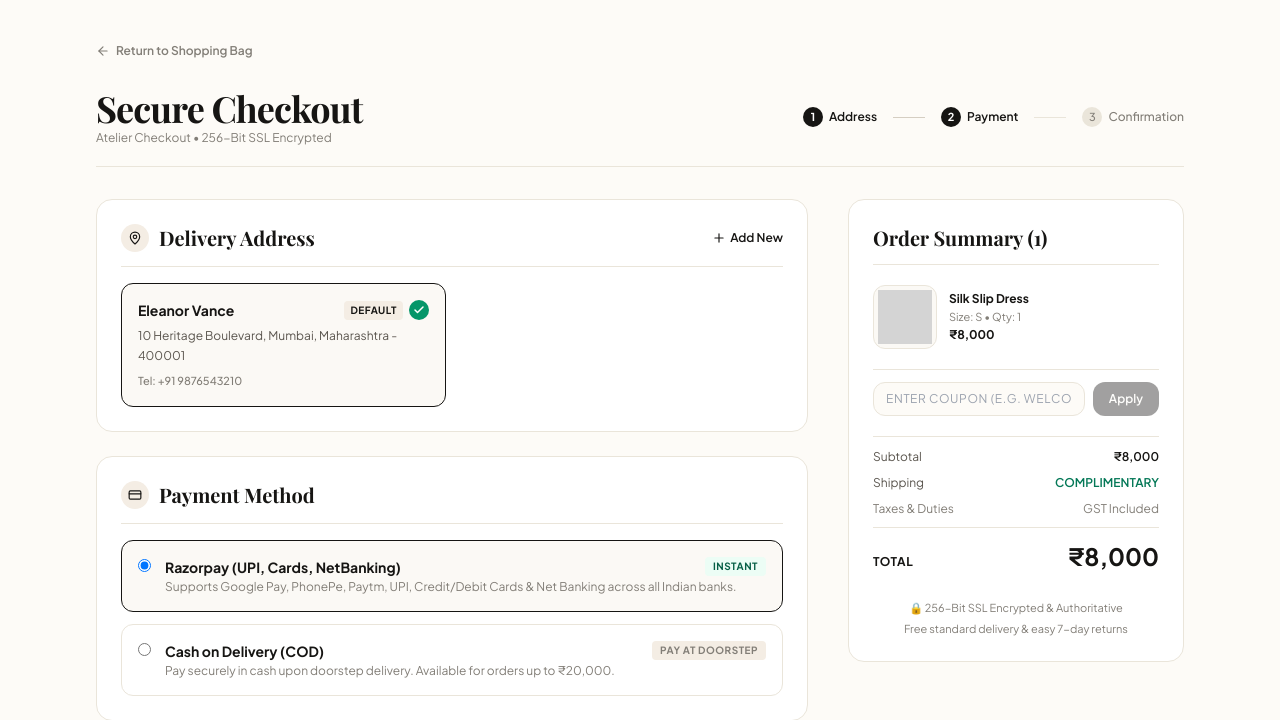
it: Frontend Checkout Experience (/checkout) › should switch between Razorpay and Cash on Delivery payment methods
Expected: the radio button with aria-label "Razorpay Secure Payment" is shown, [138, 558, 151, 572]
Click the radio button labelled "Cash on Delivery". click: (144, 649)
box: [138, 642, 151, 656]
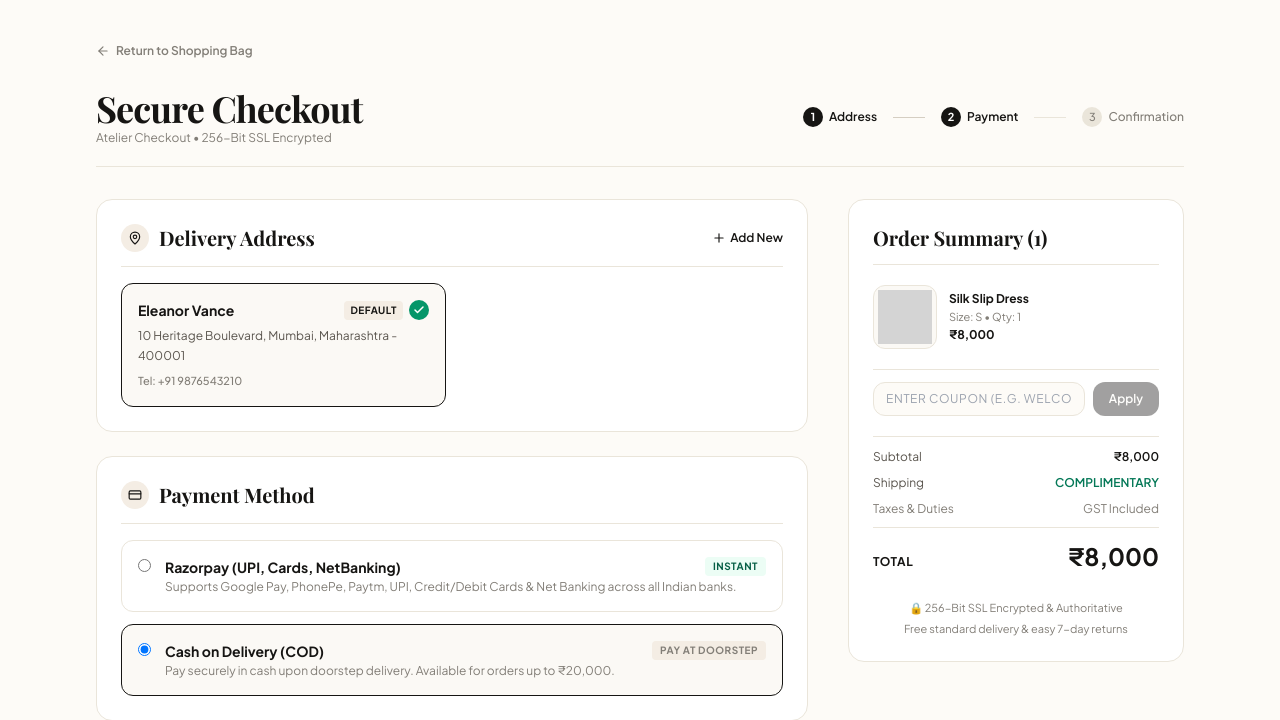
Expected: the radio button labelled "Cash on Delivery" is checked, [138, 642, 151, 656]
Click the radio button with aria-label "Razorpay Secure Payment". click: (144, 565)
box: [138, 558, 151, 572]
(page scrolled)
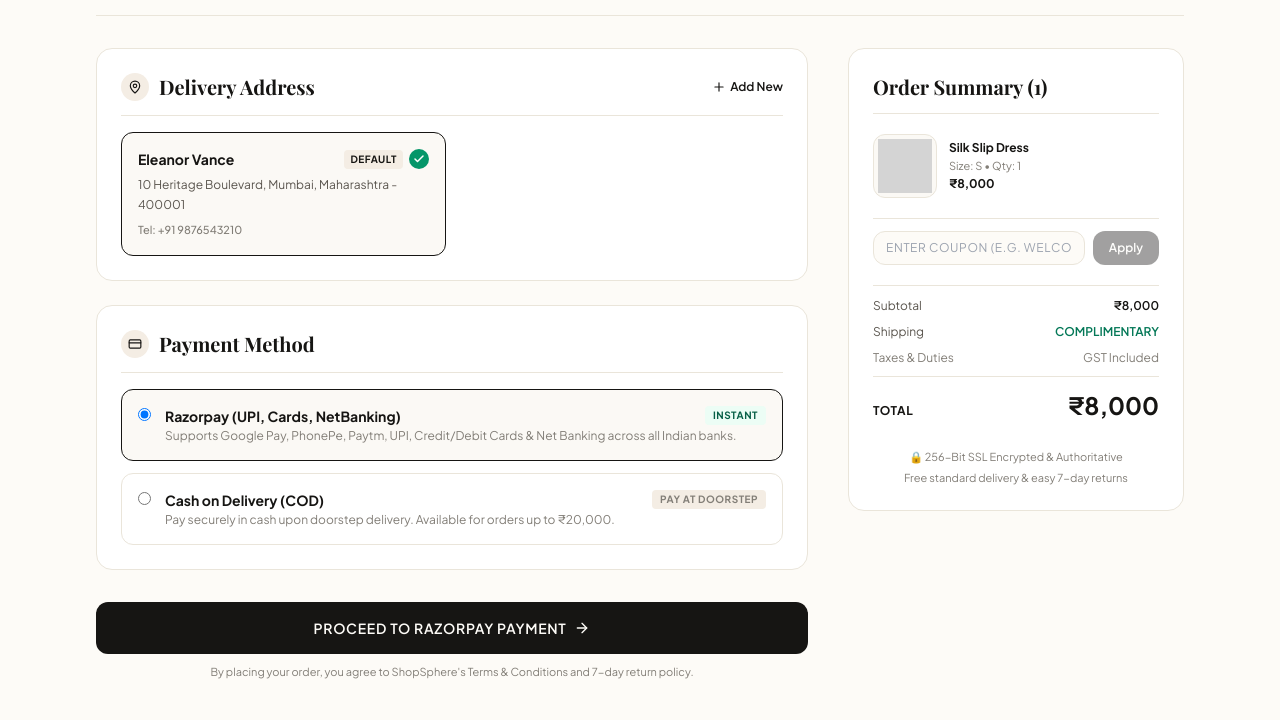
Expected: the radio button with aria-label "Razorpay Secure Payment" is checked, [138, 408, 151, 420]
Expected: the text "Proceed to Razorpay Payment" is shown, [314, 618, 566, 638]
